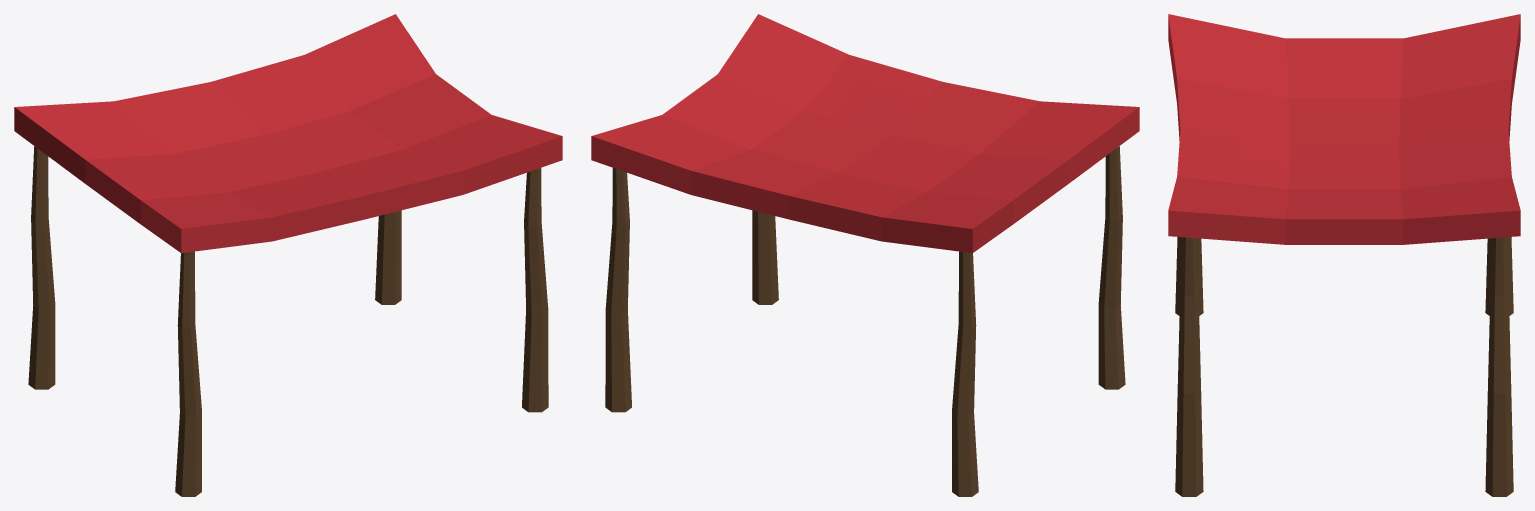
The model's file is egypt_egypt-stand.fbx.
3 views of the same model, side by side, from view 1: azimuth 30°, elevation 25°; view 2: azimuth 150°, elevation 25°; view 3: azimuth 270°, elevation 25° (orthographic). The views are drawn at different scales.
Visible parts, largest first — view 1: egypt_egypt_stand; view 2: egypt_egypt_stand; view 3: egypt_egypt_stand.
Part boxes in pixels (box(x1,y1,x2,y2)): egypt_egypt_stand: box(14, 14, 562, 496); egypt_egypt_stand: box(591, 14, 1139, 496); egypt_egypt_stand: box(1168, 14, 1520, 496).
Size of the model in its own units: 200 by 138 by 152.
